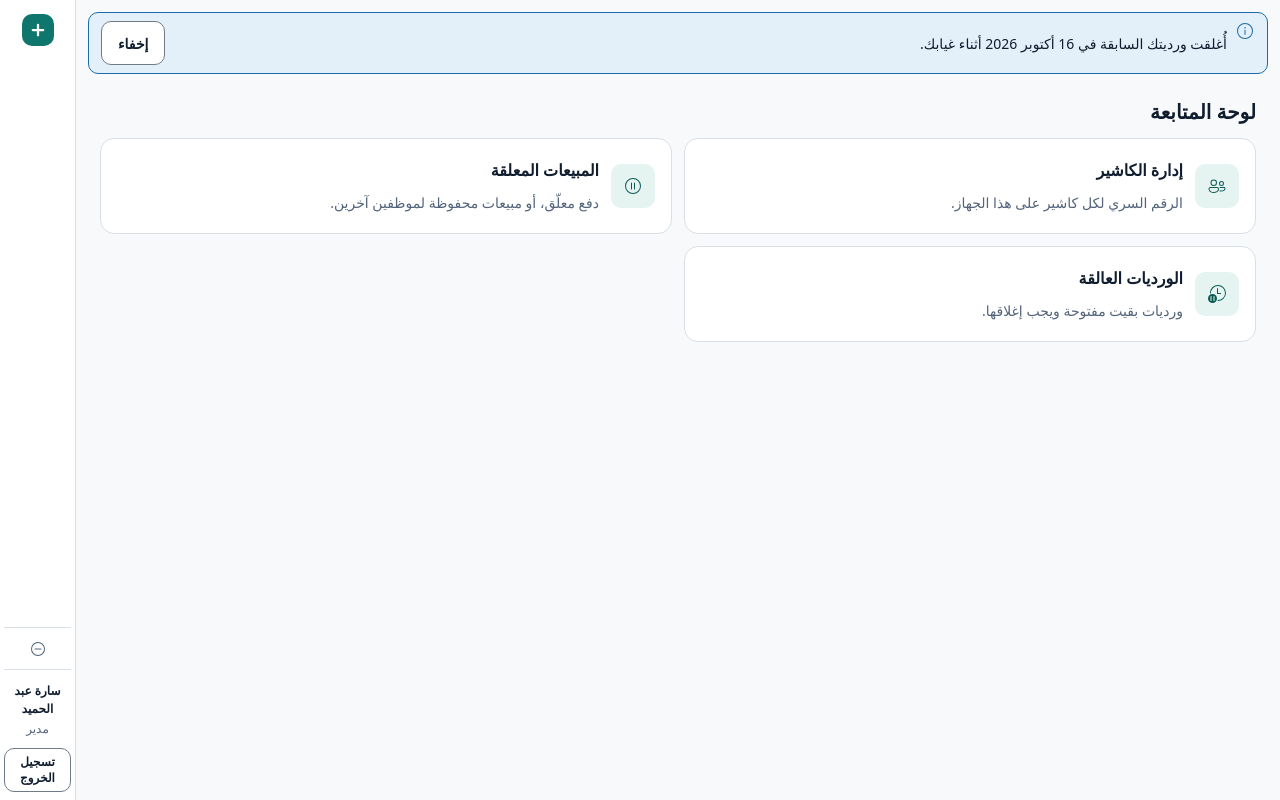
Test case: OneFrameProof — parameters › RT-605: closed=shift signs in with a forced-close notice, which dismiss clears
The width and height of the screenshot is (1280, 800).
Click the button "إخفاء".
click(133, 43)  # box [101,21,166,65]
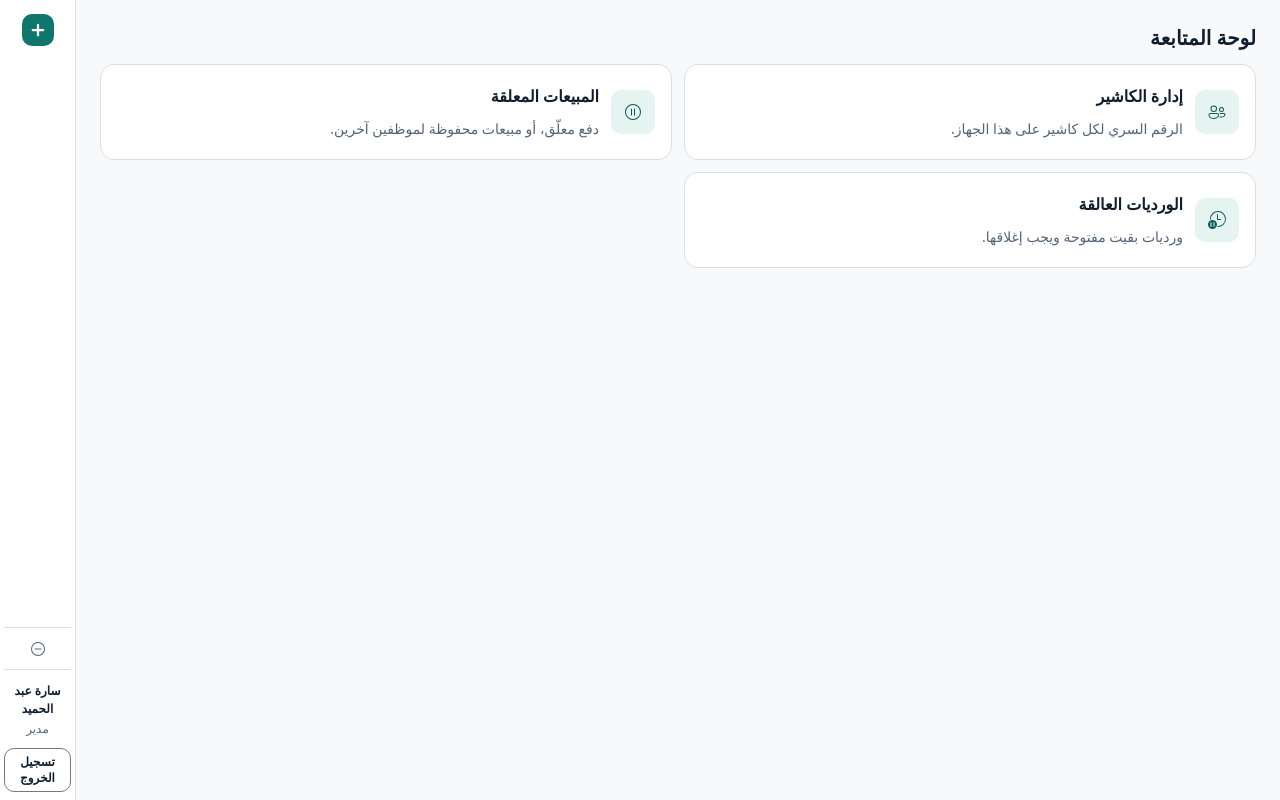
Result: the message with test id "shift-closed-banner" is gone
